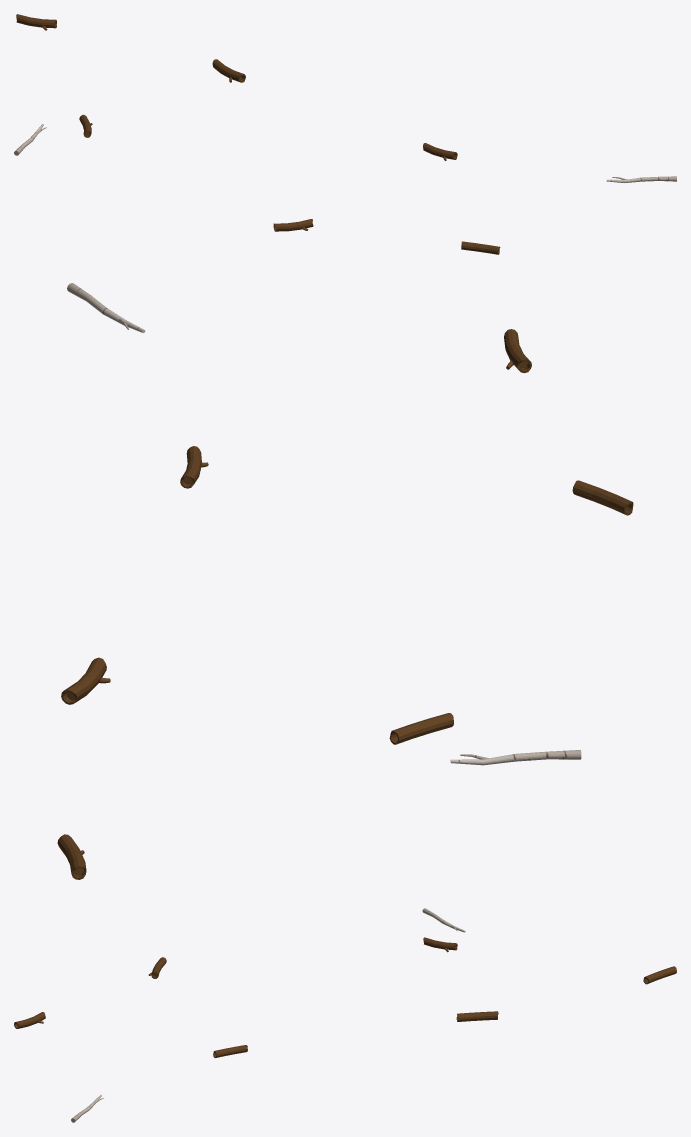
Rendered from Branches4.gltf.
3 views of the same model, one above another, from view 1: azimuth 30°, elevation 25°; view 2: azimuth 150°, elevation 25°; view 3: azimuth 270°, elevation 25° (orthographic). The views are drawn at different scales.
Parts seen in each view (by area): view 1: BeechBranch1 - copy.014; view 2: BirchBranch1 - copy.044, BeechBranch1 - copy.020, BeechBranch1 - copy.035, BeechBranch1 - copy.041; view 3: BeechBranch1 - copy.020.
Part boxes in pixels (<box>): BeechBranch1 - copy.014: <box>16,14,56,30</box>; BirchBranch1 - copy.044: <box>450,750,581,765</box>; BeechBranch1 - copy.020: <box>61,657,110,704</box>; BeechBranch1 - copy.035: <box>389,713,453,744</box>; BeechBranch1 - copy.041: <box>572,480,633,515</box>; BeechBranch1 - copy.020: <box>456,1011,498,1021</box>.
Size of the model in its own units: 20.46 by 0.3714 by 27.15.
Materials: 2 (2 with a texture image).
